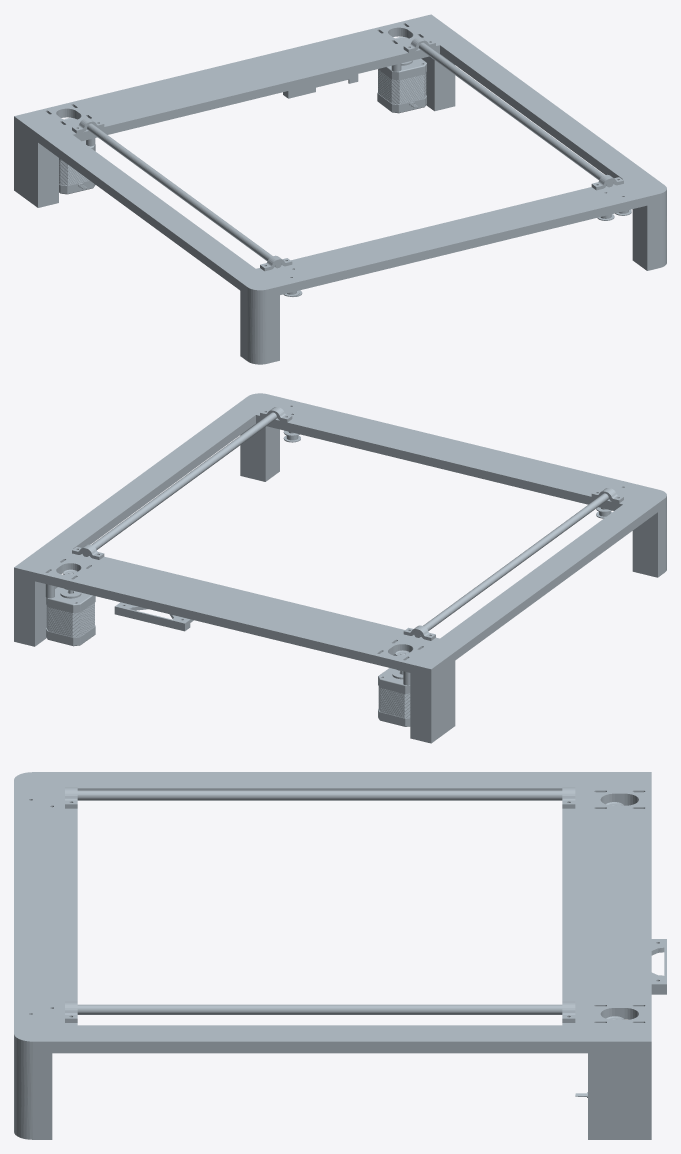
The model's file is corexy_frame.glb.
3 renders of one model, top to bottom at view 1: azimuth 30°, elevation 25°; view 2: azimuth 150°, elevation 25°; view 3: azimuth 270°, elevation 25°, orthographic. The views are drawn at different scales.
Visible parts, largest first — view 1: CoreXYFrame-col; view 2: CoreXYFrame-col; view 3: CoreXYFrame-col.
Part boxes in pixels (bbox=[...]): CoreXYFrame-col: bbox=[14, 14, 666, 364]; CoreXYFrame-col: bbox=[14, 393, 666, 743]; CoreXYFrame-col: bbox=[14, 772, 666, 1139].
Size of the model in its own units: 9.77 by 1.85 by 10.
